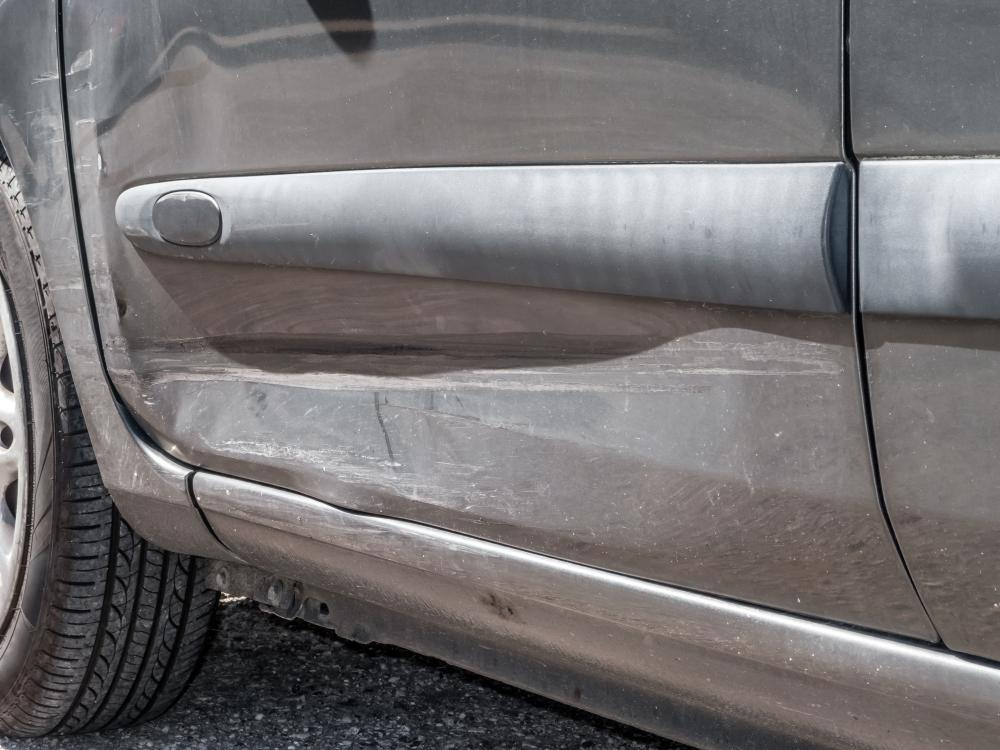crack: (185, 471, 251, 565)
dent: (123, 264, 720, 534)
